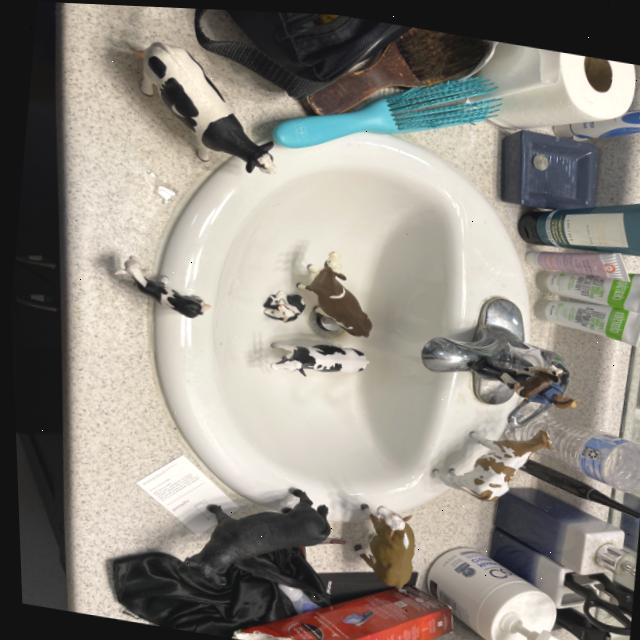cow: (118, 26, 287, 201), (163, 461, 335, 593), (426, 389, 554, 517), (294, 246, 373, 348), (114, 253, 209, 325), (348, 499, 422, 587), (506, 349, 569, 398), (268, 340, 366, 371), (258, 286, 304, 322)
person: (525, 373, 575, 406)
